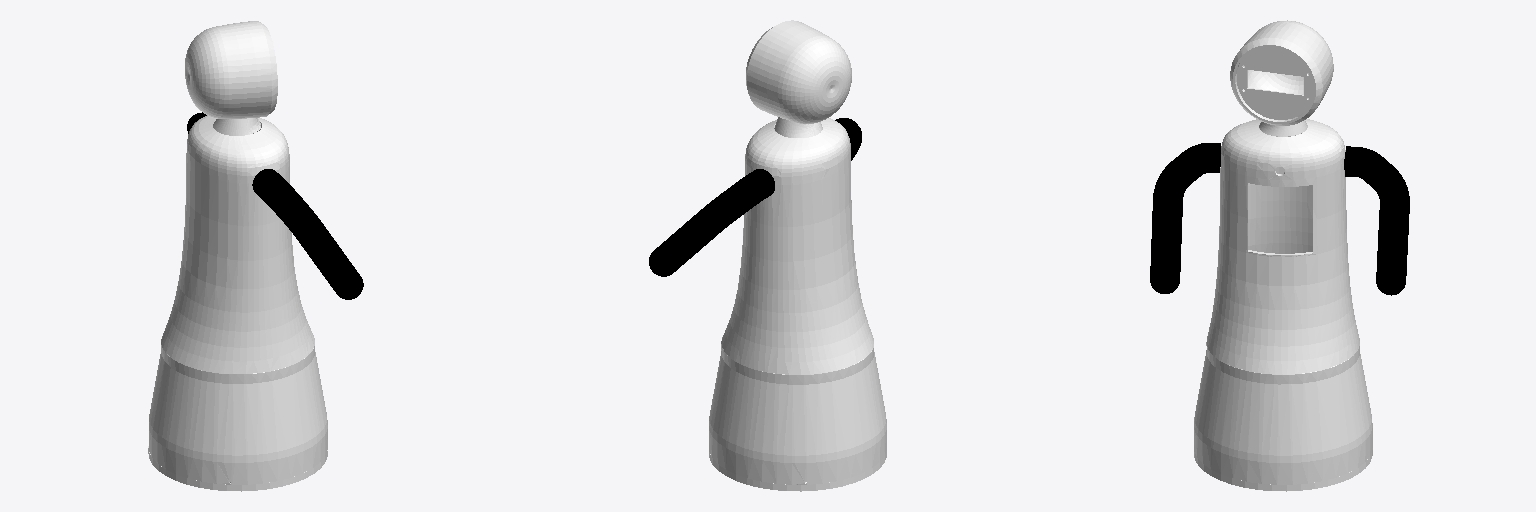
robot.urdf — Assem2.SLDASM:
<?xml version="1.0" encoding="utf-8"?>
<!-- This URDF was automatically created by SolidWorks to URDF Exporter! Originally created by [author] ([email redacted]) 
     Commit Version: 1.6.0-4-g7f85cfe  Build Version: 1.6.7995.38578
     For more information, please see http://wiki.ros.org/sw_urdf_exporter -->
<robot
  name="Assem2.SLDASM">
  
  <link name="base_footprint"/>
  
  <joint name="base_footprint_joint" type="fixed">
    <parent link="base_footprint"/>
    <child link="base_link"/>
    <origin xyz="0 0 0" rpy="0 0 0"/>
  </joint>

  <link
    name="base_link">
    <inertial>
      <origin
        xyz="0.00392777303738234 -0.000462430422751625 -0.137752360930799"
        rpy="0 0 0" />
      <mass
        value="14.5955135474013" />
      <inertia
        ixx="0.426538617921406"
        ixy="-0.00157786653807191"
        ixz="0.00395302088461851"
        iyy="0.406915526297024"
        iyz="-0.000230325994480383"
        izz="0.379055497906767" />
    </inertial>
    <visual>
      <origin
        xyz="0 0 0"
        rpy="0 0 0" />
      <geometry>
        <mesh
          filename="package://my_robot/meshes/base_link.STL" />
      </geometry>
      <material
        name="">
        <color
          rgba="1 1 1 1" />
      </material>
    </visual>
    <collision>
      <origin
        xyz="0 0 0"
        rpy="0 0 0" />
      <geometry>
        <mesh
          filename="package://my_robot/meshes/base_link.STL" />
      </geometry>
    </collision>
  </link>
  <link
    name="front_rightwheel">
    <inertial>
      <origin
        xyz="5.55111512312578E-17 0.0149119318068629 2.22044604925031E-16"
        rpy="0 0 0" />
      <mass
        value="0.264648314852862" />
      <inertia
        ixx="0.000185534431237692"
        ixy="5.02925812432241E-22"
        ixz="-1.11040725429118E-20"
        iyy="0.000332124485669939"
        iyz="-5.0821976835258E-21"
        izz="0.000185534431237692" />
    </inertial>
    <visual>
      <origin
        xyz="0 0 0"
        rpy="0 0 0" />
      <geometry>
        <mesh
          filename="package://my_robot/meshes/front_rightwheel.STL" />
      </geometry>
      <material
        name="">
        <color
          rgba="0.298039215686275 0.298039215686275 0.298039215686275 1" />
      </material>
    </visual>
    <collision>
      <origin
        xyz="0 0 0"
        rpy="0 0 0" />
      <geometry>
        <mesh
          filename="package://my_robot/meshes/front_rightwheel.STL" />
      </geometry>
    </collision>
  </link>
  <joint
    name="front_rightwheelj"
    type="continuous">
    <origin
      xyz="0.10031 0.10904 -0.5136"
      rpy="0 0 -3.1416" />
    <parent
      link="base_link" />
    <child
      link="front_rightwheel" />
    <axis
      xyz="0 1 0" />
  </joint>
  <link
    name="front_leftwheel">
    <inertial>
      <origin
        xyz="5.55111512312578E-17 -0.0149119318068629 0"
        rpy="0 0 0" />
      <mass
        value="0.264648314852862" />
      <inertia
        ixx="0.000185534431237693"
        ixy="7.17331027205986E-21"
        ixz="5.29693377054457E-20"
        iyy="0.000332124485669939"
        iyz="-1.3976043629696E-20"
        izz="0.000185534431237692" />
    </inertial>
    <visual>
      <origin
        xyz="0 0 0"
        rpy="0 0 0" />
      <geometry>
        <mesh
          filename="package://my_robot/meshes/front_leftwheel.STL" />
      </geometry>
      <material
        name="">
        <color
          rgba="0.298039215686275 0.298039215686275 0.298039215686275 1" />
      </material>
    </visual>
    <collision>
      <origin
        xyz="0 0 0"
        rpy="0 0 0" />
      <geometry>
        <mesh
          filename="package://my_robot/meshes/front_leftwheel.STL" />
      </geometry>
    </collision>
  </link>
  <joint
    name="front_leftwheelj"
    type="continuous">
    <origin
      xyz="0.10031 -0.1101 -0.5136"
      rpy="0 0 -3.1416" />
    <parent
      link="base_link" />
    <child
      link="front_leftwheel" />
    <axis
      xyz="0 1 0" />
  </joint>
  <link
    name="back_rigtwheel">
    <inertial>
      <origin
        xyz="0 0.0149119318068629 -2.22044604925031E-16"
        rpy="0 0 0" />
      <mass
        value="0.264648314852862" />
      <inertia
        ixx="0.000185534431237692"
        ixy="1.41613320869078E-20"
        ixz="-3.61808799930694E-20"
        iyy="0.000332124485669939"
        iyz="1.90582413132218E-20"
        izz="0.000185534431237693" />
    </inertial>
    <visual>
      <origin
        xyz="0 0 0"
        rpy="0 0 0" />
      <geometry>
        <mesh
          filename="package://my_robot/meshes/back_rigtwheel.STL" />
      </geometry>
      <material
        name="">
        <color
          rgba="0.298039215686275 0.298039215686275 0.298039215686275 1" />
      </material>
    </visual>
    <collision>
      <origin
        xyz="0 0 0"
        rpy="0 0 0" />
      <geometry>
        <mesh
          filename="package://my_robot/meshes/back_rigtwheel.STL" />
      </geometry>
    </collision>
  </link>
  <joint
    name="back_rigtwheelj"
    type="continuous">
    <origin
      xyz="-0.084446 0.10904 -0.5136"
      rpy="0 0 -3.1416" />
    <parent
      link="base_link" />
    <child
      link="back_rigtwheel" />
    <axis
      xyz="0 1 0" />
  </joint>
  <link
    name="back_leftwheel">
    <inertial>
      <origin
        xyz="0 -0.0149119318068629 2.22044604925031E-16"
        rpy="0 0 0" />
      <mass
        value="0.264648314852862" />
      <inertia
        ixx="0.000185534431237692"
        ixy="3.46754112782229E-21"
        ixz="-1.31405912110174E-20"
        iyy="0.000332124485669939"
        iyz="-2.96461531539005E-21"
        izz="0.000185534431237692" />
    </inertial>
    <visual>
      <origin
        xyz="0 0 0"
        rpy="0 0 0" />
      <geometry>
        <mesh
          filename="package://my_robot/meshes/back_leftwheel.STL" />
      </geometry>
      <material
        name="">
        <color
          rgba="0.298039215686275 0.298039215686275 0.298039215686275 1" />
      </material>
    </visual>
    <collision>
      <origin
        xyz="0 0 0"
        rpy="0 0 0" />
      <geometry>
        <mesh
          filename="package://my_robot/meshes/back_leftwheel.STL" />
      </geometry>
    </collision>
  </link>
  <joint
    name="back_leftwheelj"
    type="continuous">
    <origin
      xyz="-0.084446 -0.11011 -0.5136"
      rpy="0 0 -3.1416" />
    <parent
      link="base_link" />
    <child
      link="back_leftwheel" />
    <axis
      xyz="0 1 0" />
  </joint>
  <link
    name="leftarm">
    <inertial>
      <origin
        xyz="-0.0666613164944529 0.137548295803068 -0.105688075894746"
        rpy="0 0 0" />
      <mass
        value="0.937729973256919" />
      <inertia
        ixx="0.00852149731140797"
        ixy="0.00174412160374001"
        ixz="-0.00388155064743158"
        iyy="0.00924630168796237"
        iyz="0.00260623203421209"
        izz="0.00556868294711861" />
    </inertial>
    <visual>
      <origin
        xyz="0 0 0"
        rpy="0 0 0" />
      <geometry>
        <mesh
          filename="package://my_robot/meshes/leftarm.STL" />
      </geometry>
      <material
        name="">
        <color
          rgba="0 0 0 1" />
      </material>
    </visual>
    <collision>
      <origin
        xyz="0 0 0"
        rpy="0 0 0" />
      <geometry>
        <mesh
          filename="package://my_robot/meshes/leftarm.STL" />
      </geometry>
    </collision>
  </link>
  <joint
    name="leftarmj"
    type="revolute">
    <origin
      xyz="-0.00014739 -0.12106 0.27598"
      rpy="0 -0.058023 -3.1416" />
    <parent
      link="base_link" />
    <child
      link="leftarm" />
    <axis
      xyz="0.066788 0.99776 -0.0038796" />
    <limit
      lower="-3.14" upper="3.14" effort="10.0" velocity="1.0" />
  </joint>
  <link
    name="rightarm">
    <inertial>
      <origin
        xyz="-0.0979640335616015 -0.126928477158458 -0.0939438342628822"
        rpy="0 0 0" />
      <mass
        value="0.937729973256917" />
      <inertia
        ixx="0.0069009930401508"
        ixy="-0.00182820286393964"
        ixz="-0.0043865102426006"
        iyy="0.00971395743292838"
        iyz="-0.00181530550983805"
        izz="0.00672153147340972" />
    </inertial>
    <visual>
      <origin
        xyz="0 0 0"
        rpy="0 0 0" />
      <geometry>
        <mesh
          filename="package://my_robot/meshes/rightarm.STL" />
      </geometry>
      <material
        name="">
        <color
          rgba="0 0 0 1" />
      </material>
    </visual>
    <collision>
      <origin
        xyz="0 0 0"
        rpy="0 0 0" />
      <geometry>
        <mesh
          filename="package://my_robot/meshes/rightarm.STL" />
      </geometry>
    </collision>
  </link>
  <joint
    name="rightarmj"
    type="revolute">
    <origin
      xyz="0.016015 0.12 0.27598"
      rpy="0 0 -3.1416" />
    <parent
      link="base_link" />
    <child
      link="rightarm" />
    <axis
      xyz="-0.066901 -0.99776 0" />
    <limit
      lower="-3.14" upper="3.14" effort="10.0" velocity="1.0" />
  </joint>

  <gazebo>
    <plugin name='object_controller' filename='libgazebo_ros_planar_move.so'>
      <commandTopic>cmd_vel</commandTopic>
      <odometryTopic>odom</odometryTopic>
      <odometryFrame>odom</odometryFrame>
      <odometryRate>20.0</odometryRate>
      <robotBaseFrame>base_footprint</robotBaseFrame>
    </plugin>
  </gazebo>

  <gazebo>
    <plugin name='gazebo_ros_joint_state_publisher' filename='libgazebo_ros_joint_state_publisher.so'>
      <update_rate>20</update_rate>
      <joint_name>front_leftwheelj</joint_name>
      <joint_name>front_rightwheelj</joint_name>
      <joint_name>back_leftwheelj</joint_name>
      <joint_name>back_rigtwheelj</joint_name>
      <joint_name>leftarmj</joint_name>
      <joint_name>rightarmj</joint_name>
    </plugin>
  </gazebo>
</robot>

--- Facts derived from the render (not from the file) ---
3 views of the same robot in one strip: view 1: azimuth 30°, elevation 25°; view 2: azimuth 150°, elevation 25°; view 3: azimuth 270°, elevation 25° (orthographic).
Model Assem2.SLDASM with 8 links and 7 joints (2 revolute, 4 continuous, 1 fixed), rooted at base_footprint, posed every joint at zero.
Visible links, largest first — view 1: base_link, leftarm; view 2: base_link, rightarm; view 3: base_link, leftarm, rightarm.
Boxes of the visible links, box(x1,y1,x2,y2) form: base_link: box(148, 21, 327, 491); leftarm: box(252, 169, 363, 299); base_link: box(709, 20, 886, 491); rightarm: box(649, 169, 774, 276); base_link: box(1194, 20, 1372, 491); leftarm: box(1150, 143, 1220, 293); rightarm: box(1344, 146, 1409, 295).
Bounding box of the posed robot: 0.4896 × 0.6447 × 1.2 m (x, y, z).
7 mesh visuals loaded from 7 distinct referenced files (7 binary STL).
